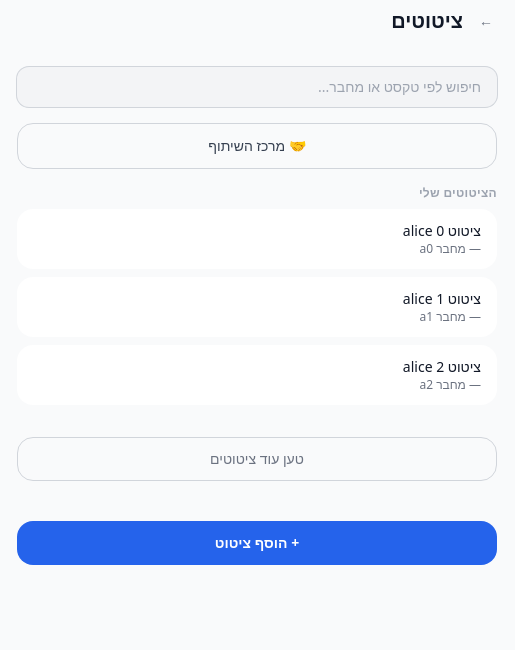
Test case: Citations Sections by Creator › loads more citations when "טען עוד ציטוטים" is clicked
Click the button "טען עוד ציטוטים": (257, 459) [17,437,497,481]
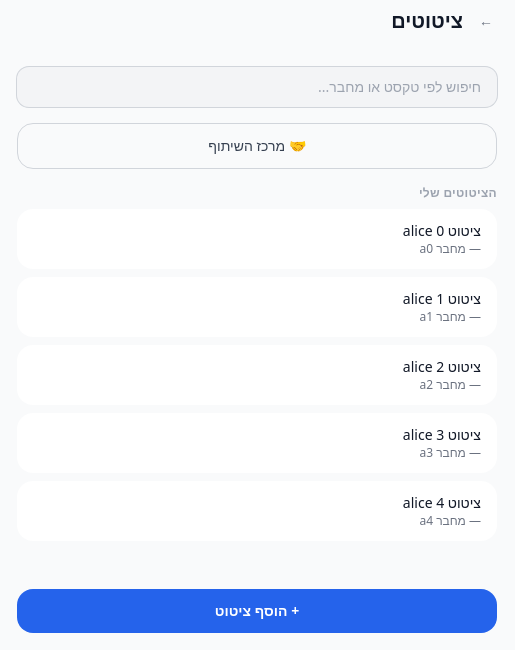
Check: the text "ציטוט alice 3" is shown, box [403,425,481,444]
Check: the text "ציטוט alice 4" is shown, box [403,493,481,512]
